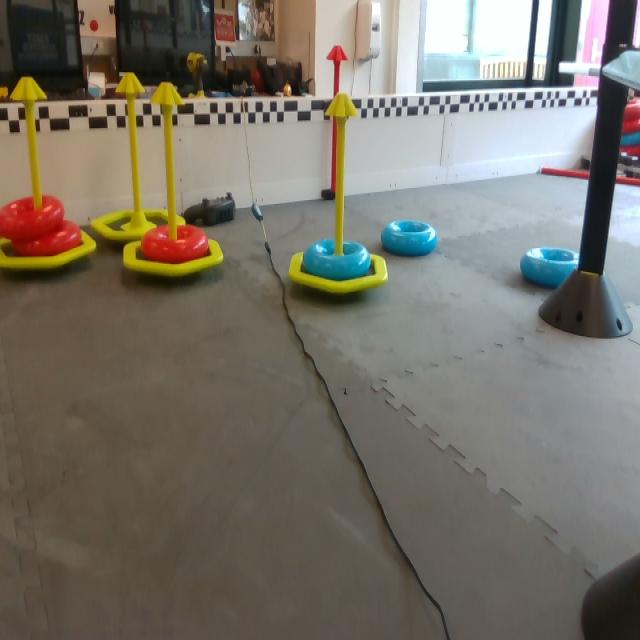Blue-Ring: (305, 238, 371, 280), (519, 247, 581, 289), (380, 219, 440, 260), (619, 134, 639, 148)
Mobile-Goal: (287, 91, 387, 299), (121, 82, 226, 277), (0, 75, 98, 271), (92, 71, 186, 241)
Red-Ring: (0, 195, 68, 241), (141, 226, 210, 265), (14, 222, 83, 258), (623, 94, 639, 122), (620, 144, 639, 160), (621, 119, 639, 134)
Yellow-Stake-Head: (9, 76, 48, 102), (326, 93, 359, 118), (150, 82, 184, 106), (115, 71, 146, 96)
zred-Stake-Head: (326, 45, 348, 60)
